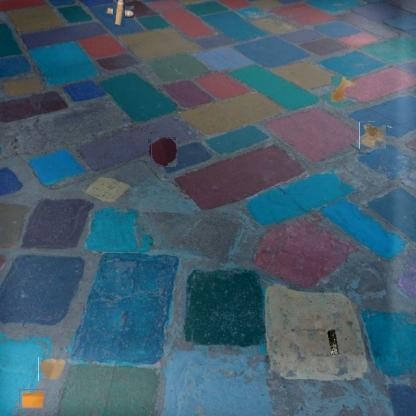dirty: (359, 121, 386, 149), (38, 357, 67, 381), (19, 389, 45, 409), (326, 327, 342, 357), (109, 1, 130, 23)
liquid: (149, 138, 177, 166), (331, 76, 357, 102)
